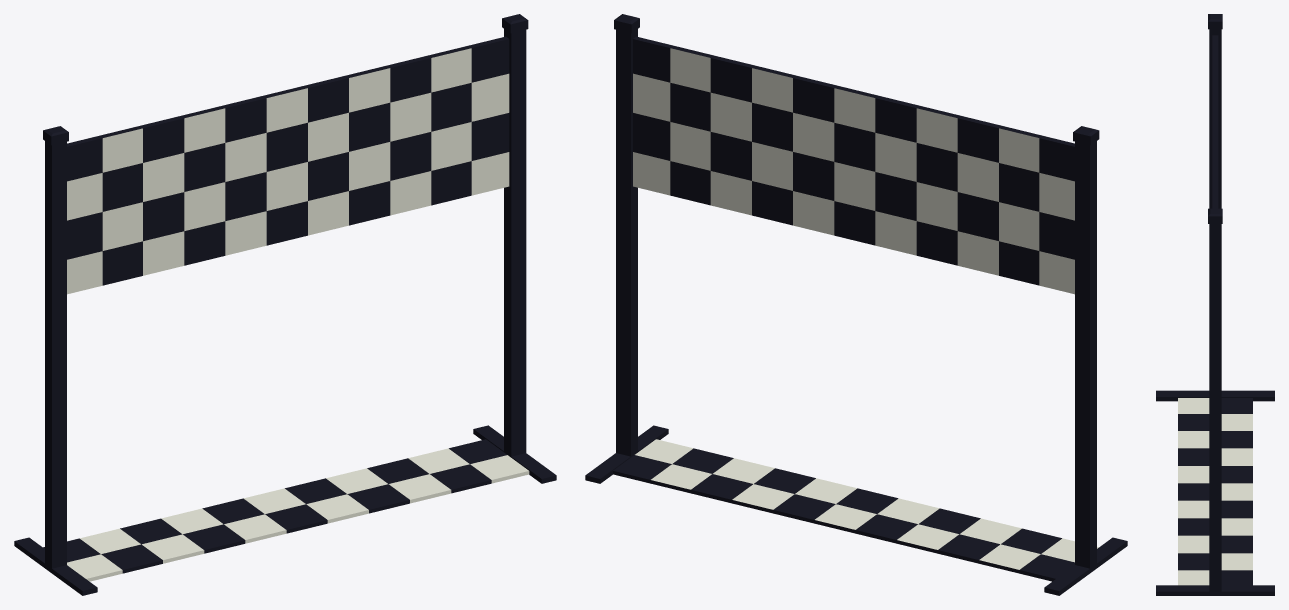
Rendered from finishline.glb.
3 renders of one model, left to right at view 1: azimuth 30°, elevation 25°; view 2: azimuth 150°, elevation 25°; view 3: azimuth 270°, elevation 25°, orthographic. The views are drawn at different scales.
Parts seen in each view (by area): view 1: Finishline; view 2: Finishline; view 3: Finishline.
Boxes of the visible parts, box(x1,y1,x2,y2) form: Finishline: box(14, 14, 556, 595); Finishline: box(585, 14, 1127, 595); Finishline: box(1156, 14, 1274, 595).
Size of the model in its own units: 6.75 by 5.94 by 1.68.
1 material, 1 textured.
